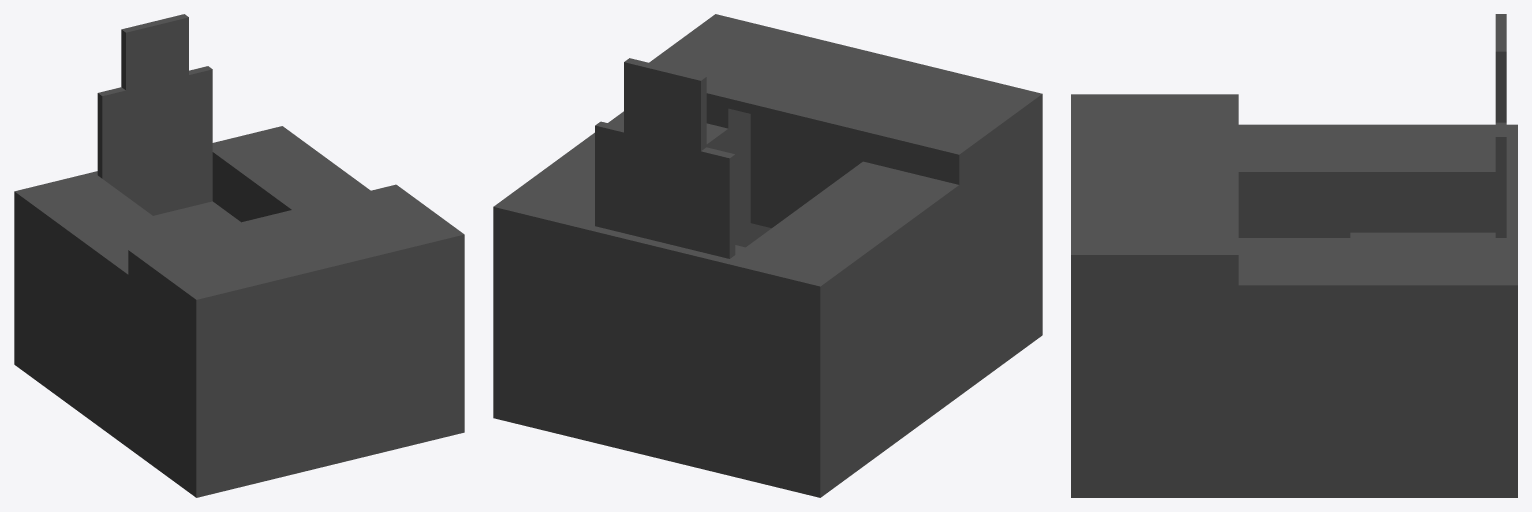
File: cockpit-2.obj
3 renders of one model, left to right at view 1: azimuth 30°, elevation 25°; view 2: azimuth 150°, elevation 25°; view 3: azimuth 270°, elevation 25°, orthographic. The views are drawn at different scales.
Bounding box in the file's own units: 3.4 × 3.8 × 4.
1 material, 1 textured.
